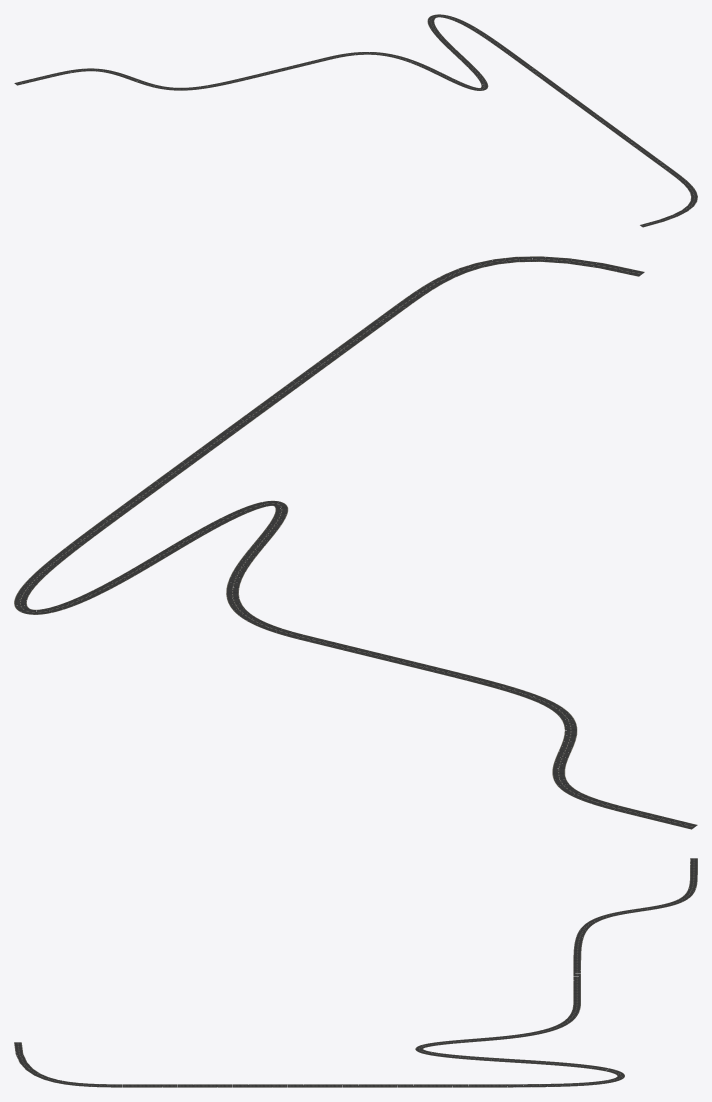
File: road.glb
3 renders of one model, top to bottom at view 1: azimuth 30°, elevation 25°; view 2: azimuth 150°, elevation 25°; view 3: azimuth 270°, elevation 25°, orthographic. The views are drawn at different scales.
Parts seen in each view (by area): view 1: Plane; view 2: Plane; view 3: Plane.
Part boxes in pixels (left/top/right/bottom): Plane: left=14, top=14, right=697, bottom=227; Plane: left=14, top=256, right=697, bottom=829; Plane: left=14, top=858, right=697, bottom=1087.
Size of the model in its own units: 1357 by 9.87 by 1738.
1 material, 1 textured.
